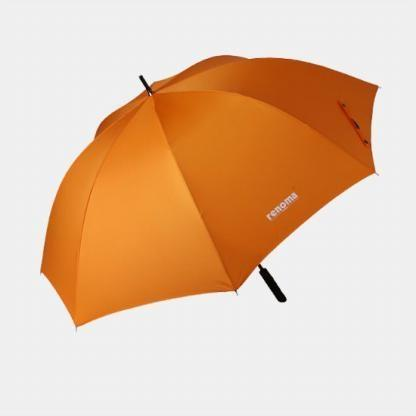Umbrella: (21, 56, 378, 355)
